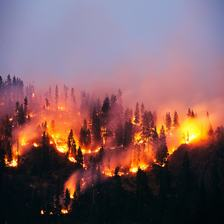fire: (10, 97, 210, 180)
